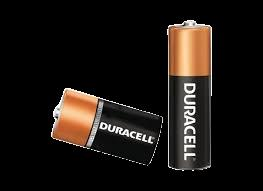Battery: (53, 90, 162, 166), (168, 21, 213, 171)
